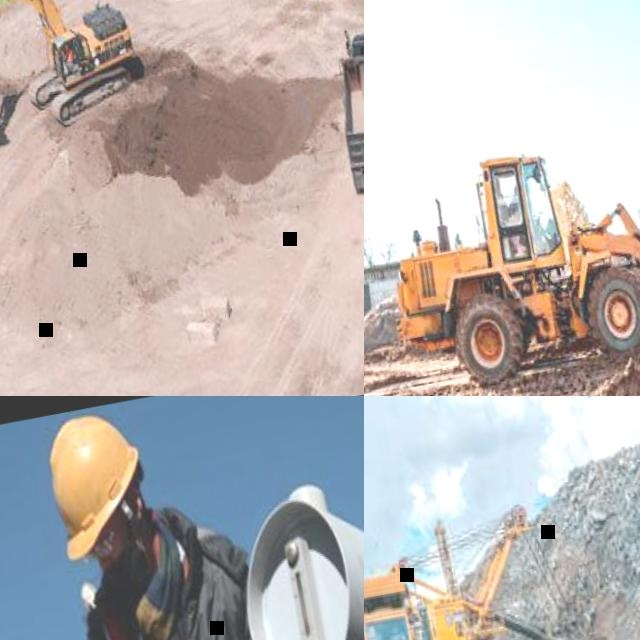Hardhat: (38, 406, 158, 559)
Mask: (104, 529, 161, 605)
NO-Safety Vest: (111, 525, 294, 640)
Person: (0, 396, 364, 640), (63, 42, 77, 66)
Safety Vest: (65, 49, 77, 65)
machinery: (370, 102, 640, 396), (385, 493, 623, 640), (0, 0, 155, 143), (324, 19, 364, 200)
